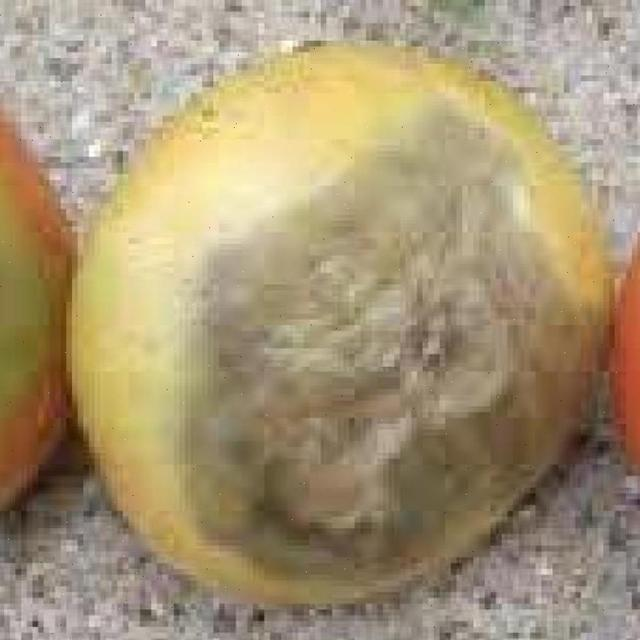Blossom End Rot Fruit: (107, 60, 391, 389)
